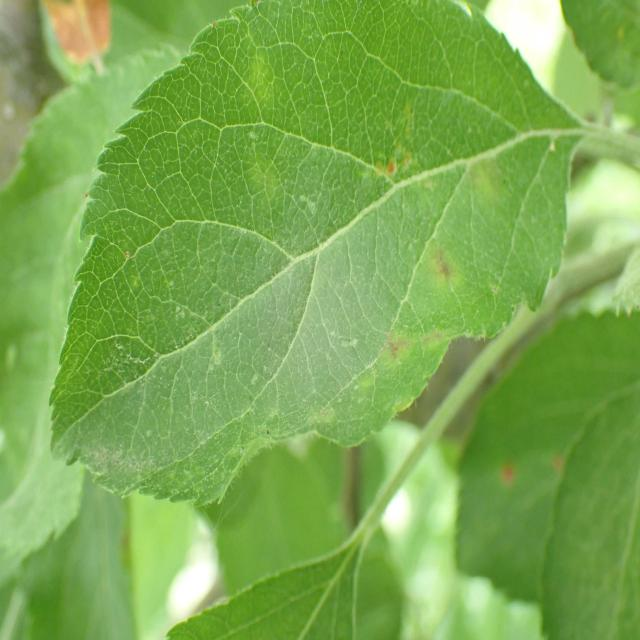scab: (106, 31, 549, 486)
